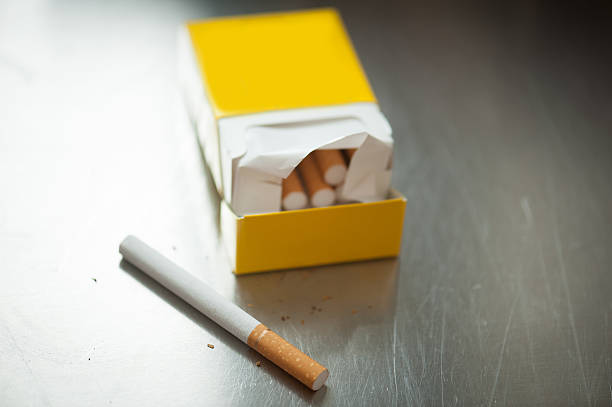cigarette: (174, 7, 406, 275), (116, 233, 329, 390), (297, 155, 336, 207), (280, 170, 308, 210), (315, 149, 347, 183)
